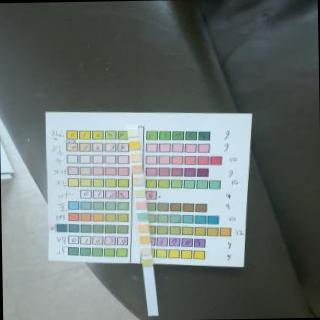mark: (135, 188, 144, 198), (131, 154, 142, 162), (128, 129, 137, 138), (142, 260, 152, 268), (141, 248, 151, 256), (140, 236, 150, 244), (136, 201, 146, 209), (134, 178, 144, 186), (138, 225, 147, 233), (137, 213, 146, 221), (134, 165, 142, 174), (130, 142, 138, 150)
